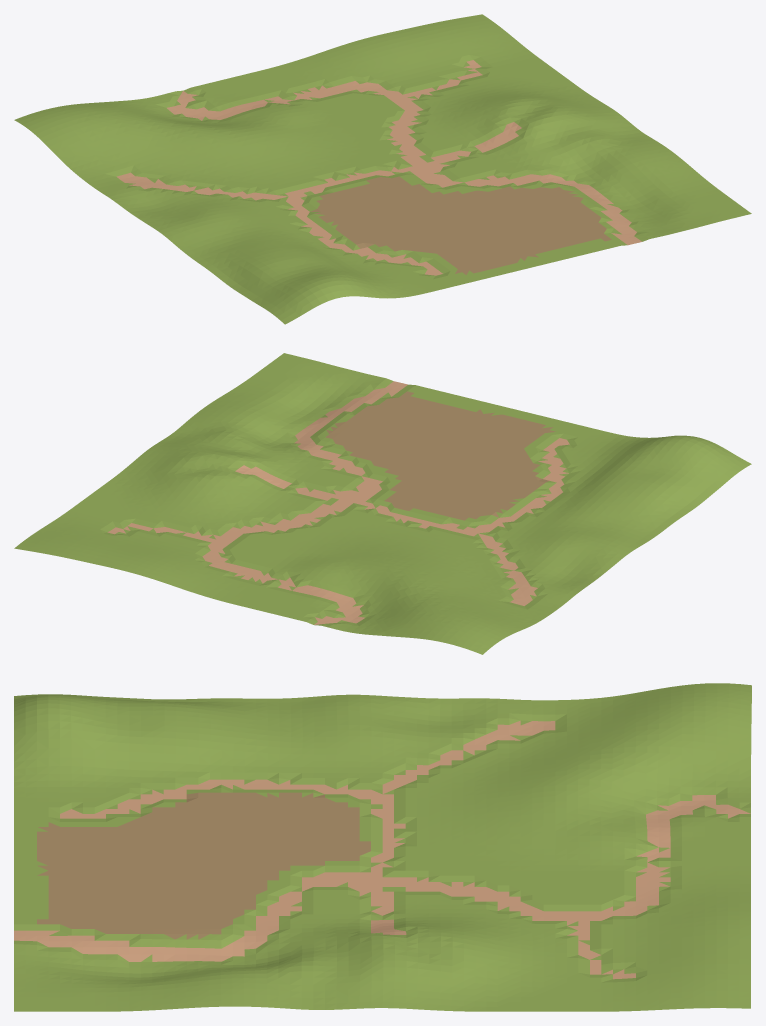
The model's file is chap2bigterr.fbx.
3 renders of one model, top to bottom at view 1: azimuth 30°, elevation 25°; view 2: azimuth 150°, elevation 25°; view 3: azimuth 270°, elevation 25°, orthographic. The views are drawn at different scales.
Visible parts, largest first — view 1: Plane.017; view 2: Plane.017; view 3: Plane.017.
Part boxes in pixels (left/top/right/bottom): Plane.017: left=14, top=14, right=751, bottom=324; Plane.017: left=14, top=353, right=751, bottom=654; Plane.017: left=14, top=683, right=751, bottom=1011.
Bounding box in the file's own units: 301 × 18.56 × 300.
